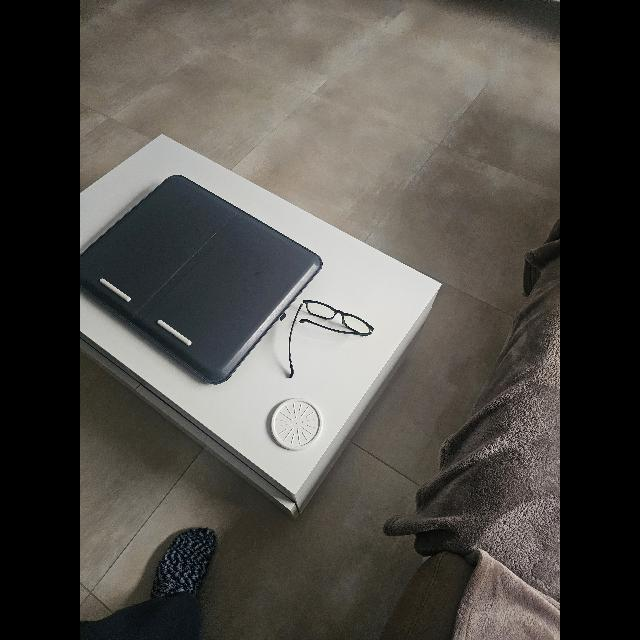glasses: (288, 300, 374, 378)
